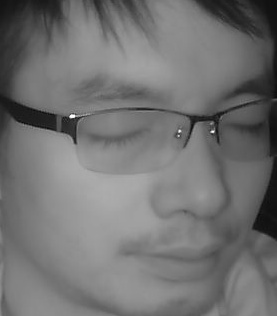blink: (89, 123, 147, 149), (227, 117, 268, 137)
glass: (73, 109, 193, 169), (210, 97, 277, 160)
mouth: (122, 232, 229, 293)
